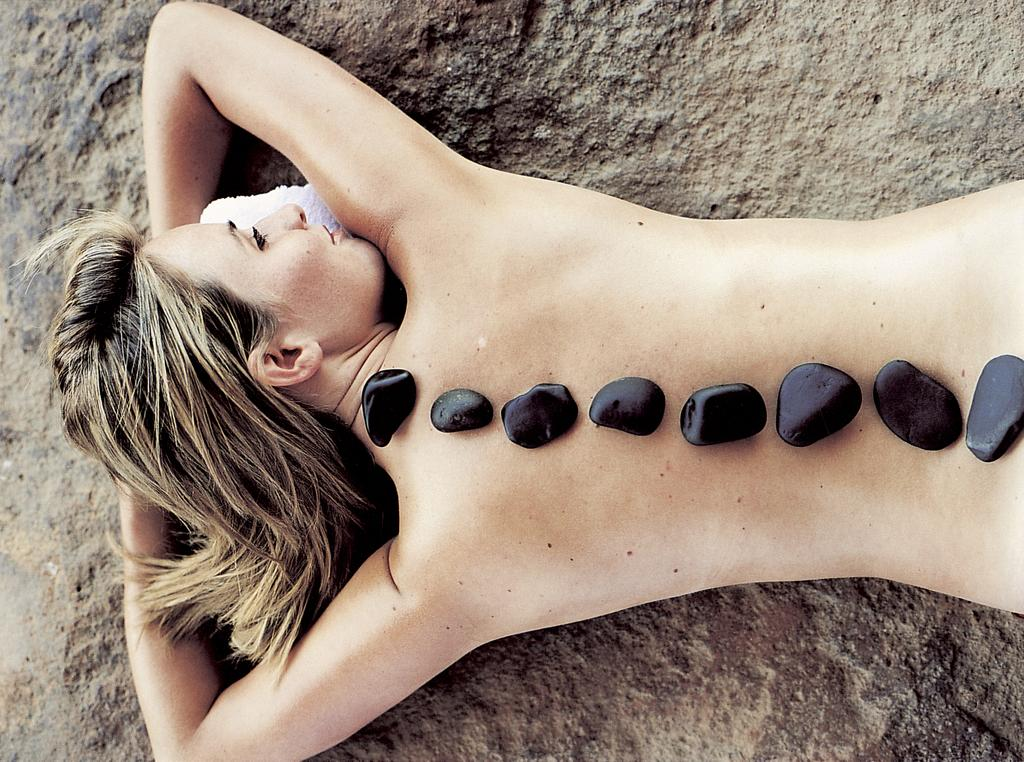face: (158, 206, 384, 332)
